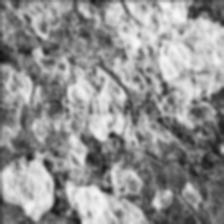Non-Cancerous Skin Condition: (0, 124, 224, 224), (4, 0, 224, 95)
